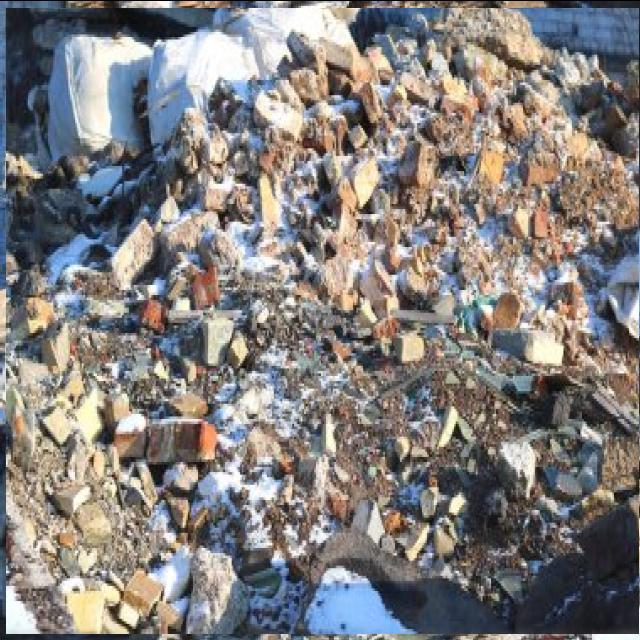garbage: (9, 4, 640, 637)
